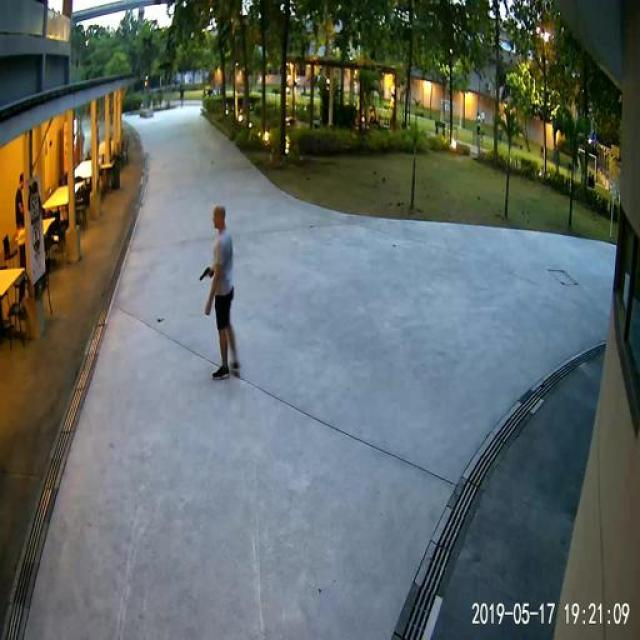Gun: (194, 259, 218, 283)
